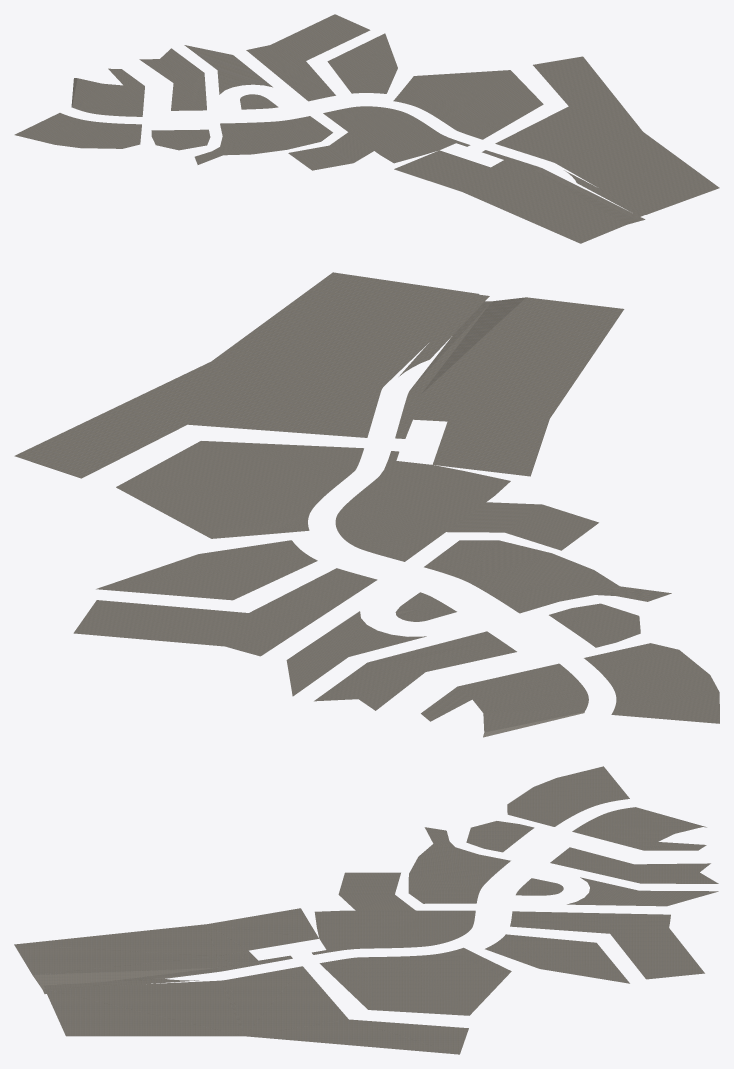
Rendered from chu_bg.FBX.
3 views of the same model, one above another, from view 1: azimuth 30°, elevation 25°; view 2: azimuth 150°, elevation 25°; view 3: azimuth 270°, elevation 25° (orthographic). The views are drawn at different scales.
Visible parts, largest first — view 1: bg15_19; view 2: bg15_19; view 3: bg15_19.
Boxes of the visible parts, x1,y1,x2,y2 form: bg15_19: [14, 14, 719, 243]; bg15_19: [14, 272, 719, 737]; bg15_19: [14, 766, 718, 1054].
Bounding box in the file's own units: 1079 × 9.47 × 1117.
